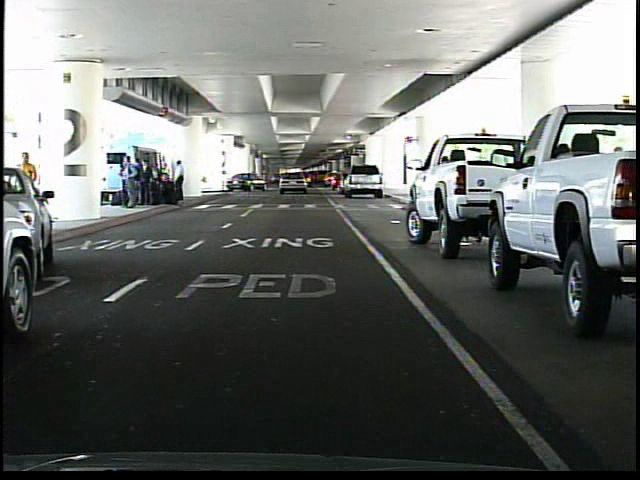person: (5, 148, 43, 237)
